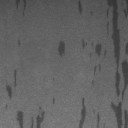red iron: (82, 0, 128, 128), (16, 107, 45, 128), (80, 98, 100, 128), (6, 68, 16, 98), (78, 0, 94, 16), (16, 0, 27, 16), (58, 41, 66, 56), (18, 38, 21, 46), (52, 98, 56, 104)
